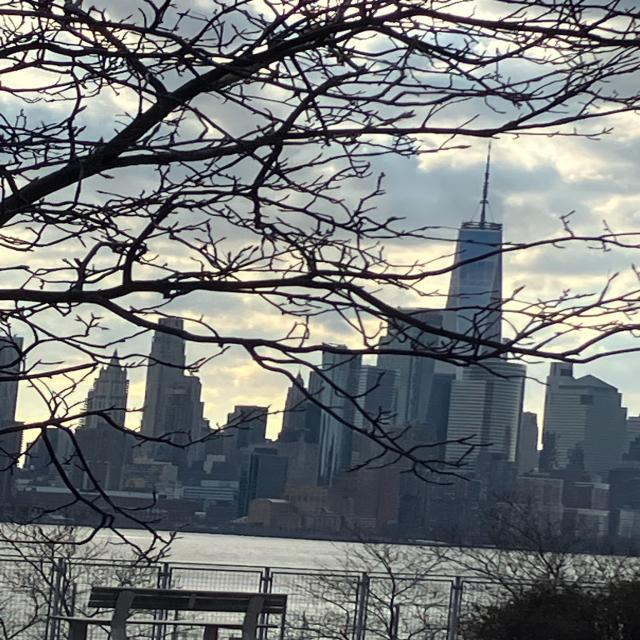WTC: (444, 136, 506, 358)
